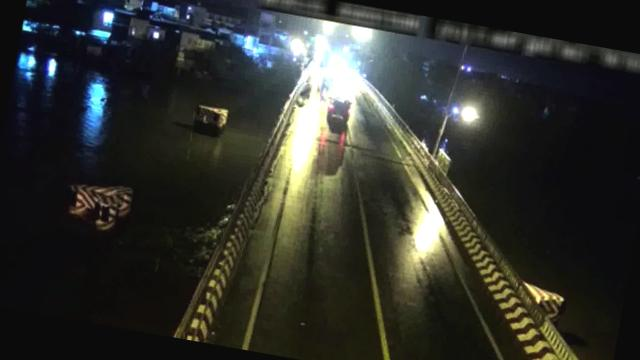Bike: (293, 80, 314, 110)
Car: (326, 96, 351, 125)
